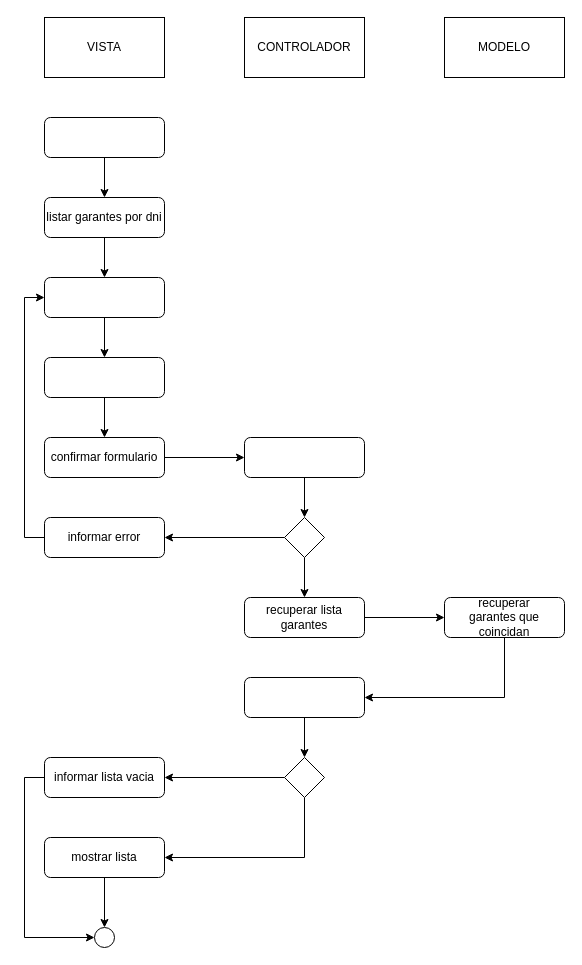
Some shapes in this 582 by 965 pixel diagram are drawn without their labels. Here are the shapes that lost their labels. From the top down, the centre of each, then its label:
At (104,137): "vista garantes".
At (104,297): "mostrar formulario".
At (104,377): "completar formulario".
At (304,457): "validar datos".
At (304,697): "comprobar lista".
